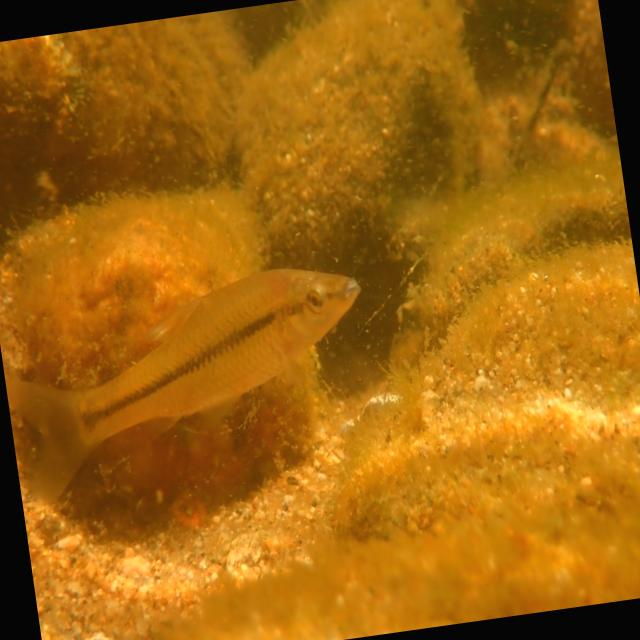Cakil Baligi: (0, 233, 385, 522)
